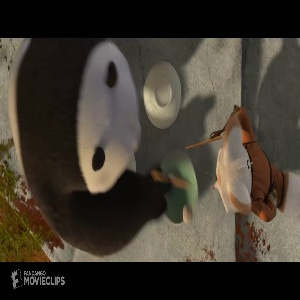po: (10, 36, 168, 257)
shifu: (184, 101, 291, 225)
